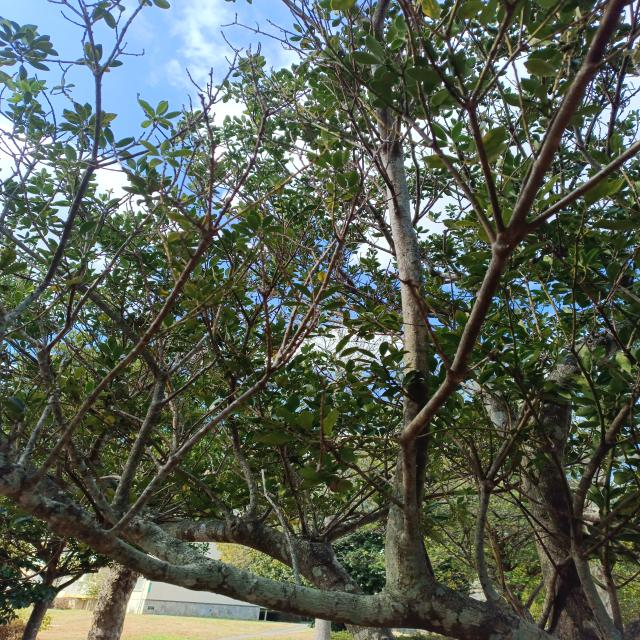Branch: (96, 507, 555, 640), (358, 19, 435, 587), (392, 221, 529, 535), (0, 457, 200, 589)
Twig: (111, 237, 335, 537), (0, 163, 167, 507), (27, 226, 215, 486), (318, 41, 499, 243), (509, 0, 635, 226), (567, 385, 640, 637), (37, 342, 122, 526), (168, 176, 234, 377), (487, 276, 548, 482), (384, 367, 486, 482), (527, 139, 640, 233), (382, 384, 475, 467), (412, 0, 468, 102), (465, 100, 506, 238), (18, 356, 63, 466), (475, 476, 508, 607), (340, 0, 368, 27), (373, 0, 390, 25)
